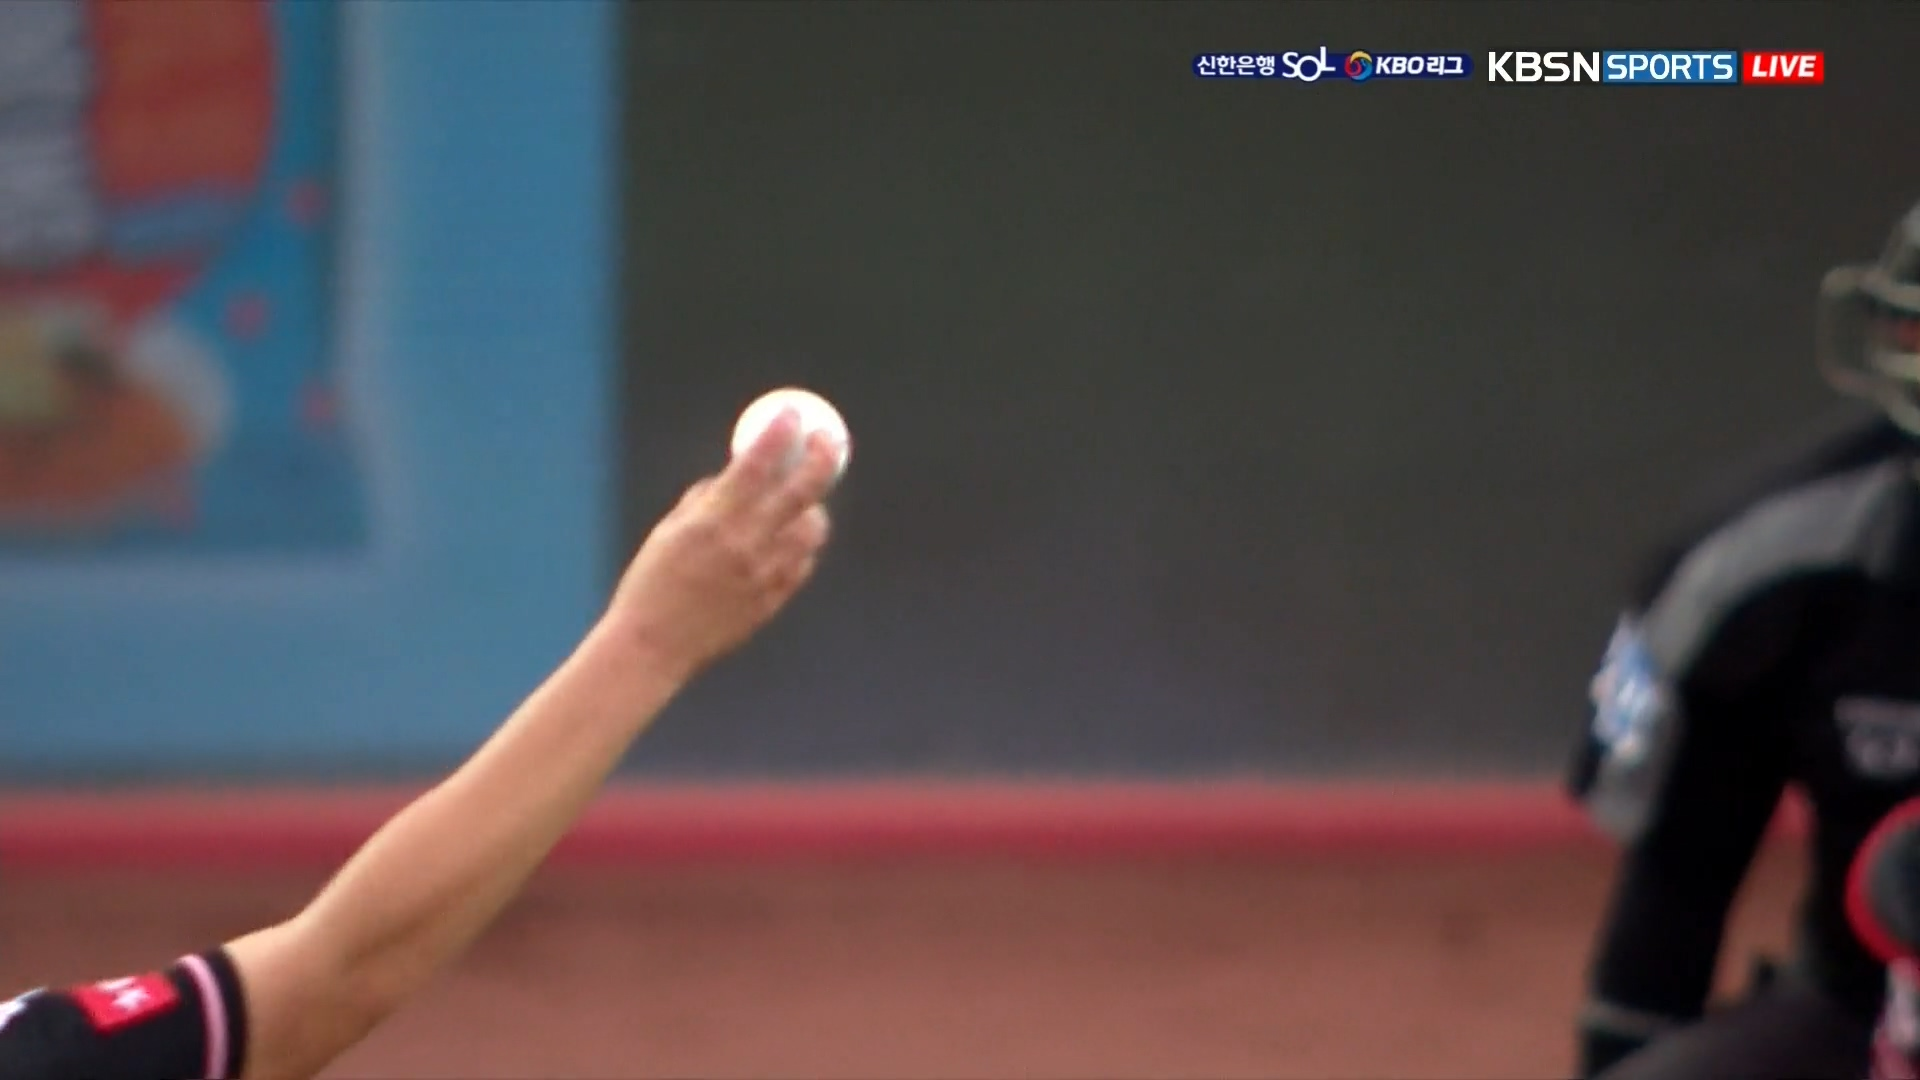zoomin_hand: (307, 365, 855, 1025)
